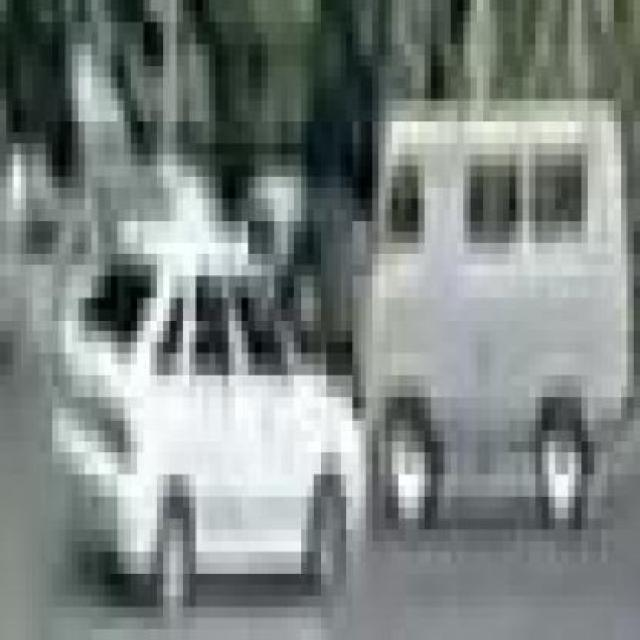accident: (49, 62, 640, 640)
